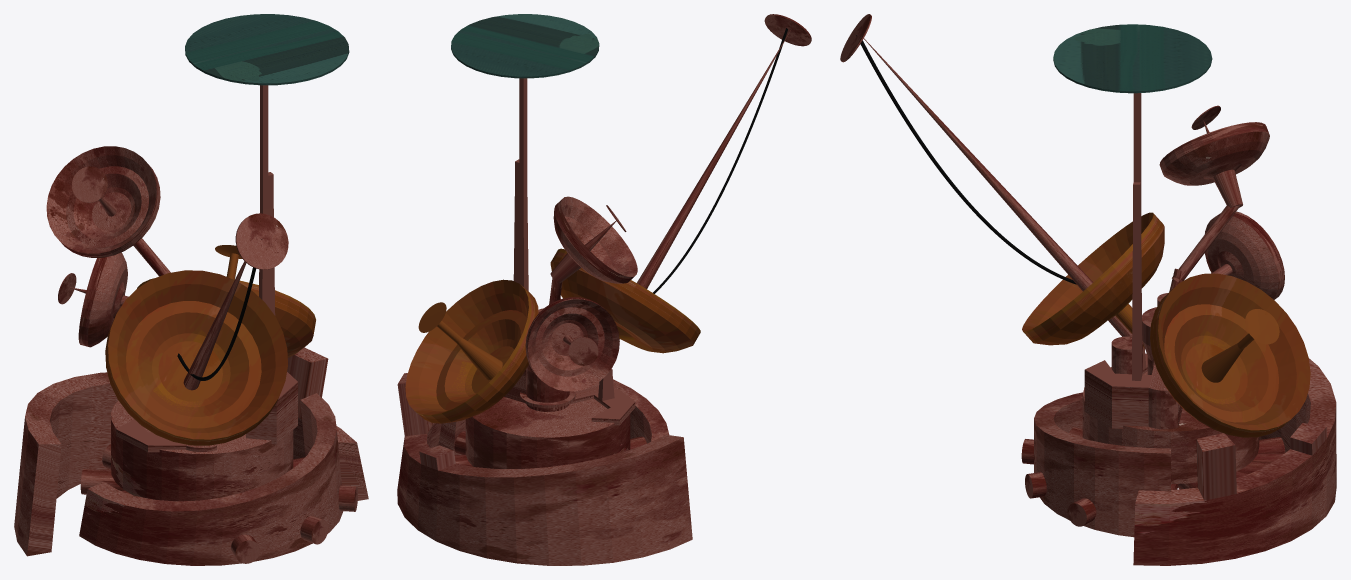
Rendered from dish.fbx.
3 renders of one model, left to right at view 1: azimuth 30°, elevation 25°; view 2: azimuth 150°, elevation 25°; view 3: azimuth 270°, elevation 25°, orthographic. The views are drawn at different scales.
Visible parts, largest first — view 1: Cylinder.113, Cylinder.112, Cylinder.114, Cylinder.059, Cylinder.104, Cylinder.102, Cylinder.107, Cylinder.064, Cylinder.110, Cylinder.105, Cone.007, Cylinder.060 (+3 smaller); view 2: Cylinder.113, Cylinder.105, Cylinder.059, Cylinder.107, Cylinder.112, Cylinder.104, Cylinder.102, Cylinder.060, Cone.007, Cylinder.114, Cylinder.110, Catenary.001 (+2 smaller); view 3: Cylinder.113, Cylinder.105, Cylinder.114, Cylinder.059, Cylinder.112, Cylinder.102, Cylinder.104, Cylinder.107, Cone.007, Cylinder.064, Catenary.001, Cylinder.062 (+2 smaller).
Part boxes in pixels (x1,y1,x2,y2): Cylinder.113: [14, 347, 368, 556]; Cylinder.112: [105, 270, 287, 445]; Cylinder.114: [79, 393, 343, 565]; Cylinder.059: [185, 14, 349, 85]; Cylinder.104: [46, 146, 160, 257]; Cylinder.102: [246, 85, 297, 444]; Cylinder.107: [78, 252, 128, 347]; Cylinder.064: [80, 444, 357, 563]; Cylinder.110: [235, 213, 288, 269]; Cylinder.105: [137, 245, 315, 357]; Cone.007: [183, 261, 246, 390]; Cylinder.060: [116, 419, 216, 452]; Cylinder.113: [397, 373, 692, 565]; Cylinder.105: [405, 279, 538, 423]; Cylinder.059: [451, 14, 599, 78]; Cylinder.107: [525, 297, 619, 391]; Cylinder.112: [550, 248, 700, 353]; Cylinder.104: [550, 196, 637, 283]; Cylinder.102: [504, 78, 569, 411]; Cylinder.060: [520, 369, 635, 425]; Cone.007: [637, 30, 790, 288]; Cylinder.114: [438, 379, 669, 454]; Cylinder.110: [764, 14, 811, 46]; Catenary.001: [653, 28, 787, 293]; Cylinder.113: [1082, 358, 1336, 565]; Cylinder.105: [1150, 273, 1310, 437]; Cylinder.114: [1034, 392, 1170, 537]; Cylinder.059: [1053, 24, 1212, 93]; Cylinder.112: [1022, 212, 1164, 348]; Cylinder.102: [1084, 93, 1182, 429]; Cylinder.104: [1159, 122, 1269, 207]; Cylinder.107: [1204, 211, 1284, 299]; Cone.007: [855, 29, 1132, 336]; Cylinder.064: [1021, 427, 1285, 526]; Catenary.001: [856, 35, 1076, 284]; Cylinder.062: [1172, 205, 1240, 282].
Bounding box in the file's own units: 562 × 574 × 400.
Materials: 4 (3 with a texture image).
